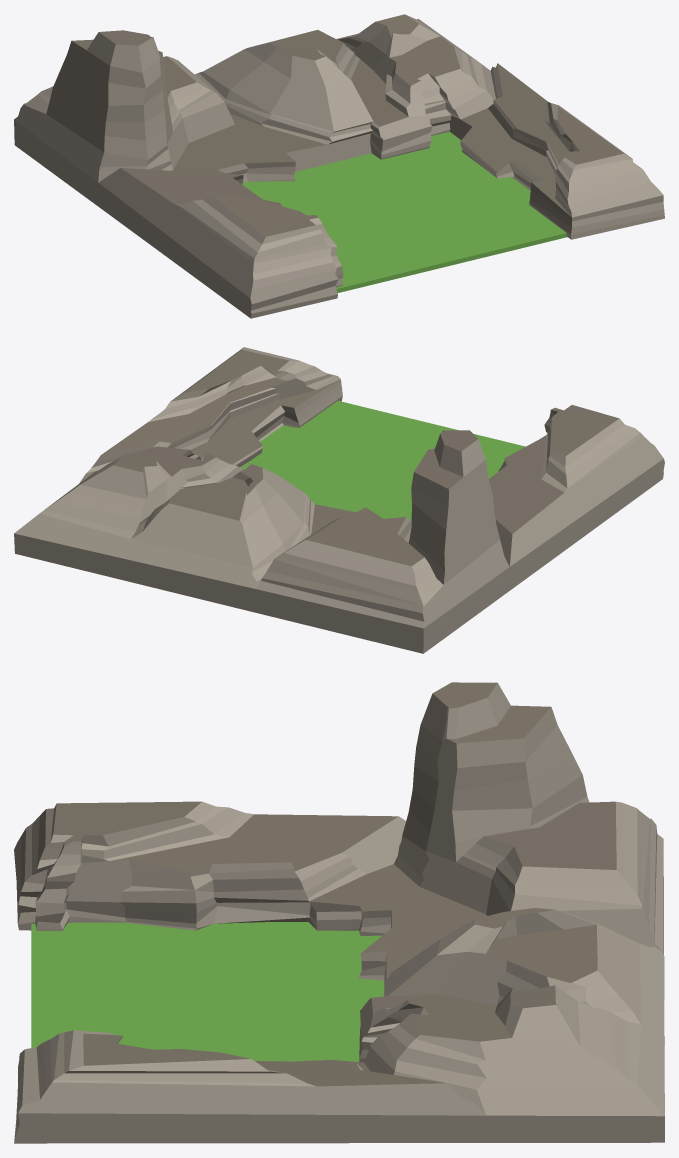
File: TUTORIAL_MAP.fbx
The picture shows the model from 3 angles, top to bottom: view 1: azimuth 30°, elevation 25°; view 2: azimuth 150°, elevation 25°; view 3: azimuth 270°, elevation 25°; orthographic projection. The views are drawn at different scales.
Parts seen in each view (by area): view 1: Plane.002; view 2: Plane.002; view 3: Plane.002.
Part boxes in pixels (x1,y1,x2,y2): Plane.002: (14, 14, 664, 318); Plane.002: (14, 347, 664, 653); Plane.002: (14, 682, 664, 1143).
Bounding box in the file's own units: 19228 × 6769 × 19315.
